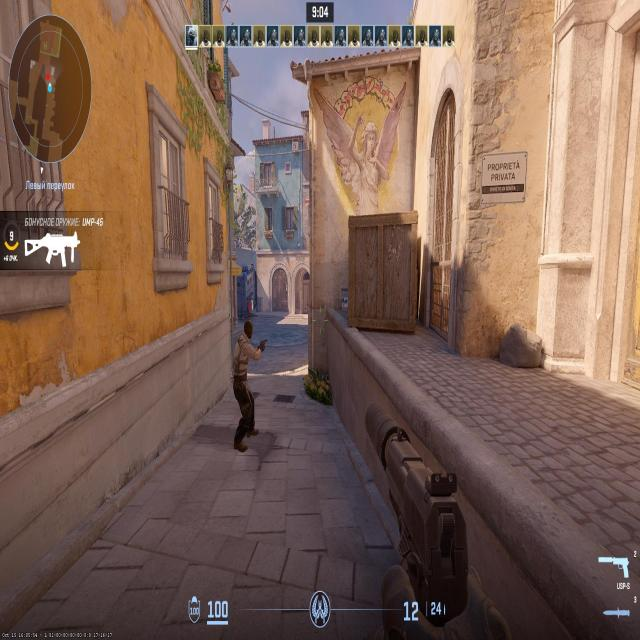T: (235, 322, 253, 442)
T_heat: (244, 327, 251, 340)
